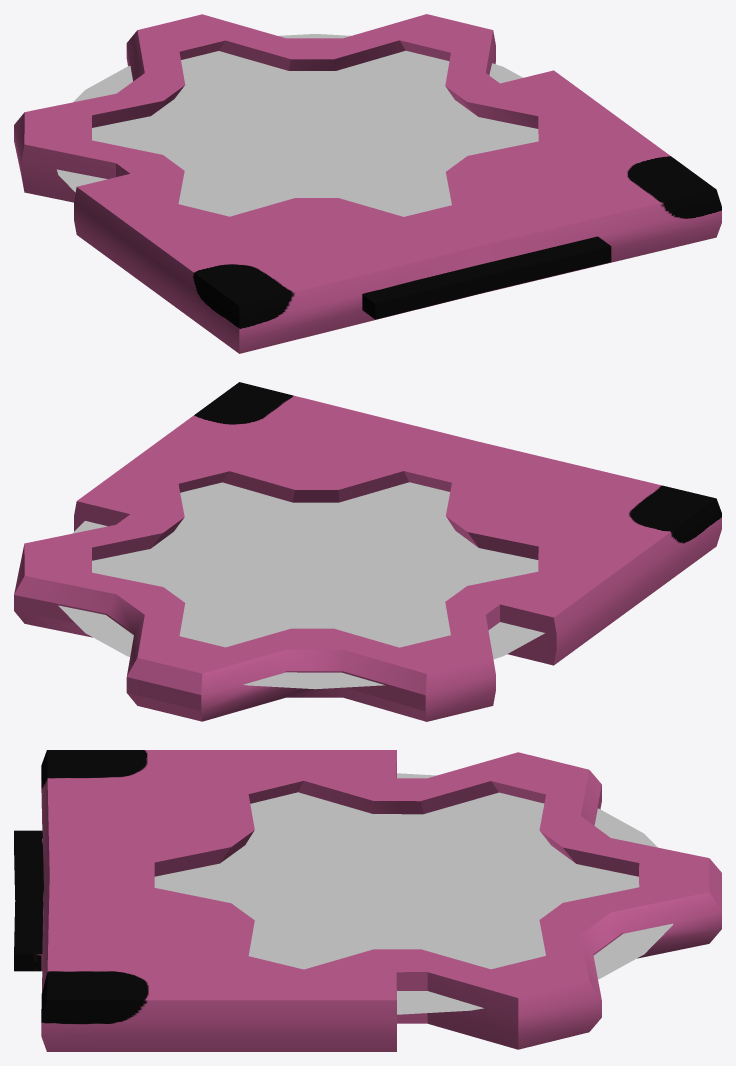
The model's file is cog disk.fbx.
The picture shows the model from 3 angles, top to bottom: view 1: azimuth 30°, elevation 25°; view 2: azimuth 150°, elevation 25°; view 3: azimuth 270°, elevation 25°; orthographic projection. The views are drawn at different scales.
Visible parts, largest first — view 1: Circle; view 2: Circle; view 3: Circle.
Boxes of the visible parts, box(x1,y1,x2,y2) form: Circle: box(14, 14, 721, 353); Circle: box(14, 382, 721, 721); Circle: box(14, 750, 721, 1051).
Bounding box in the file's own units: 190 × 18.06 × 225.
